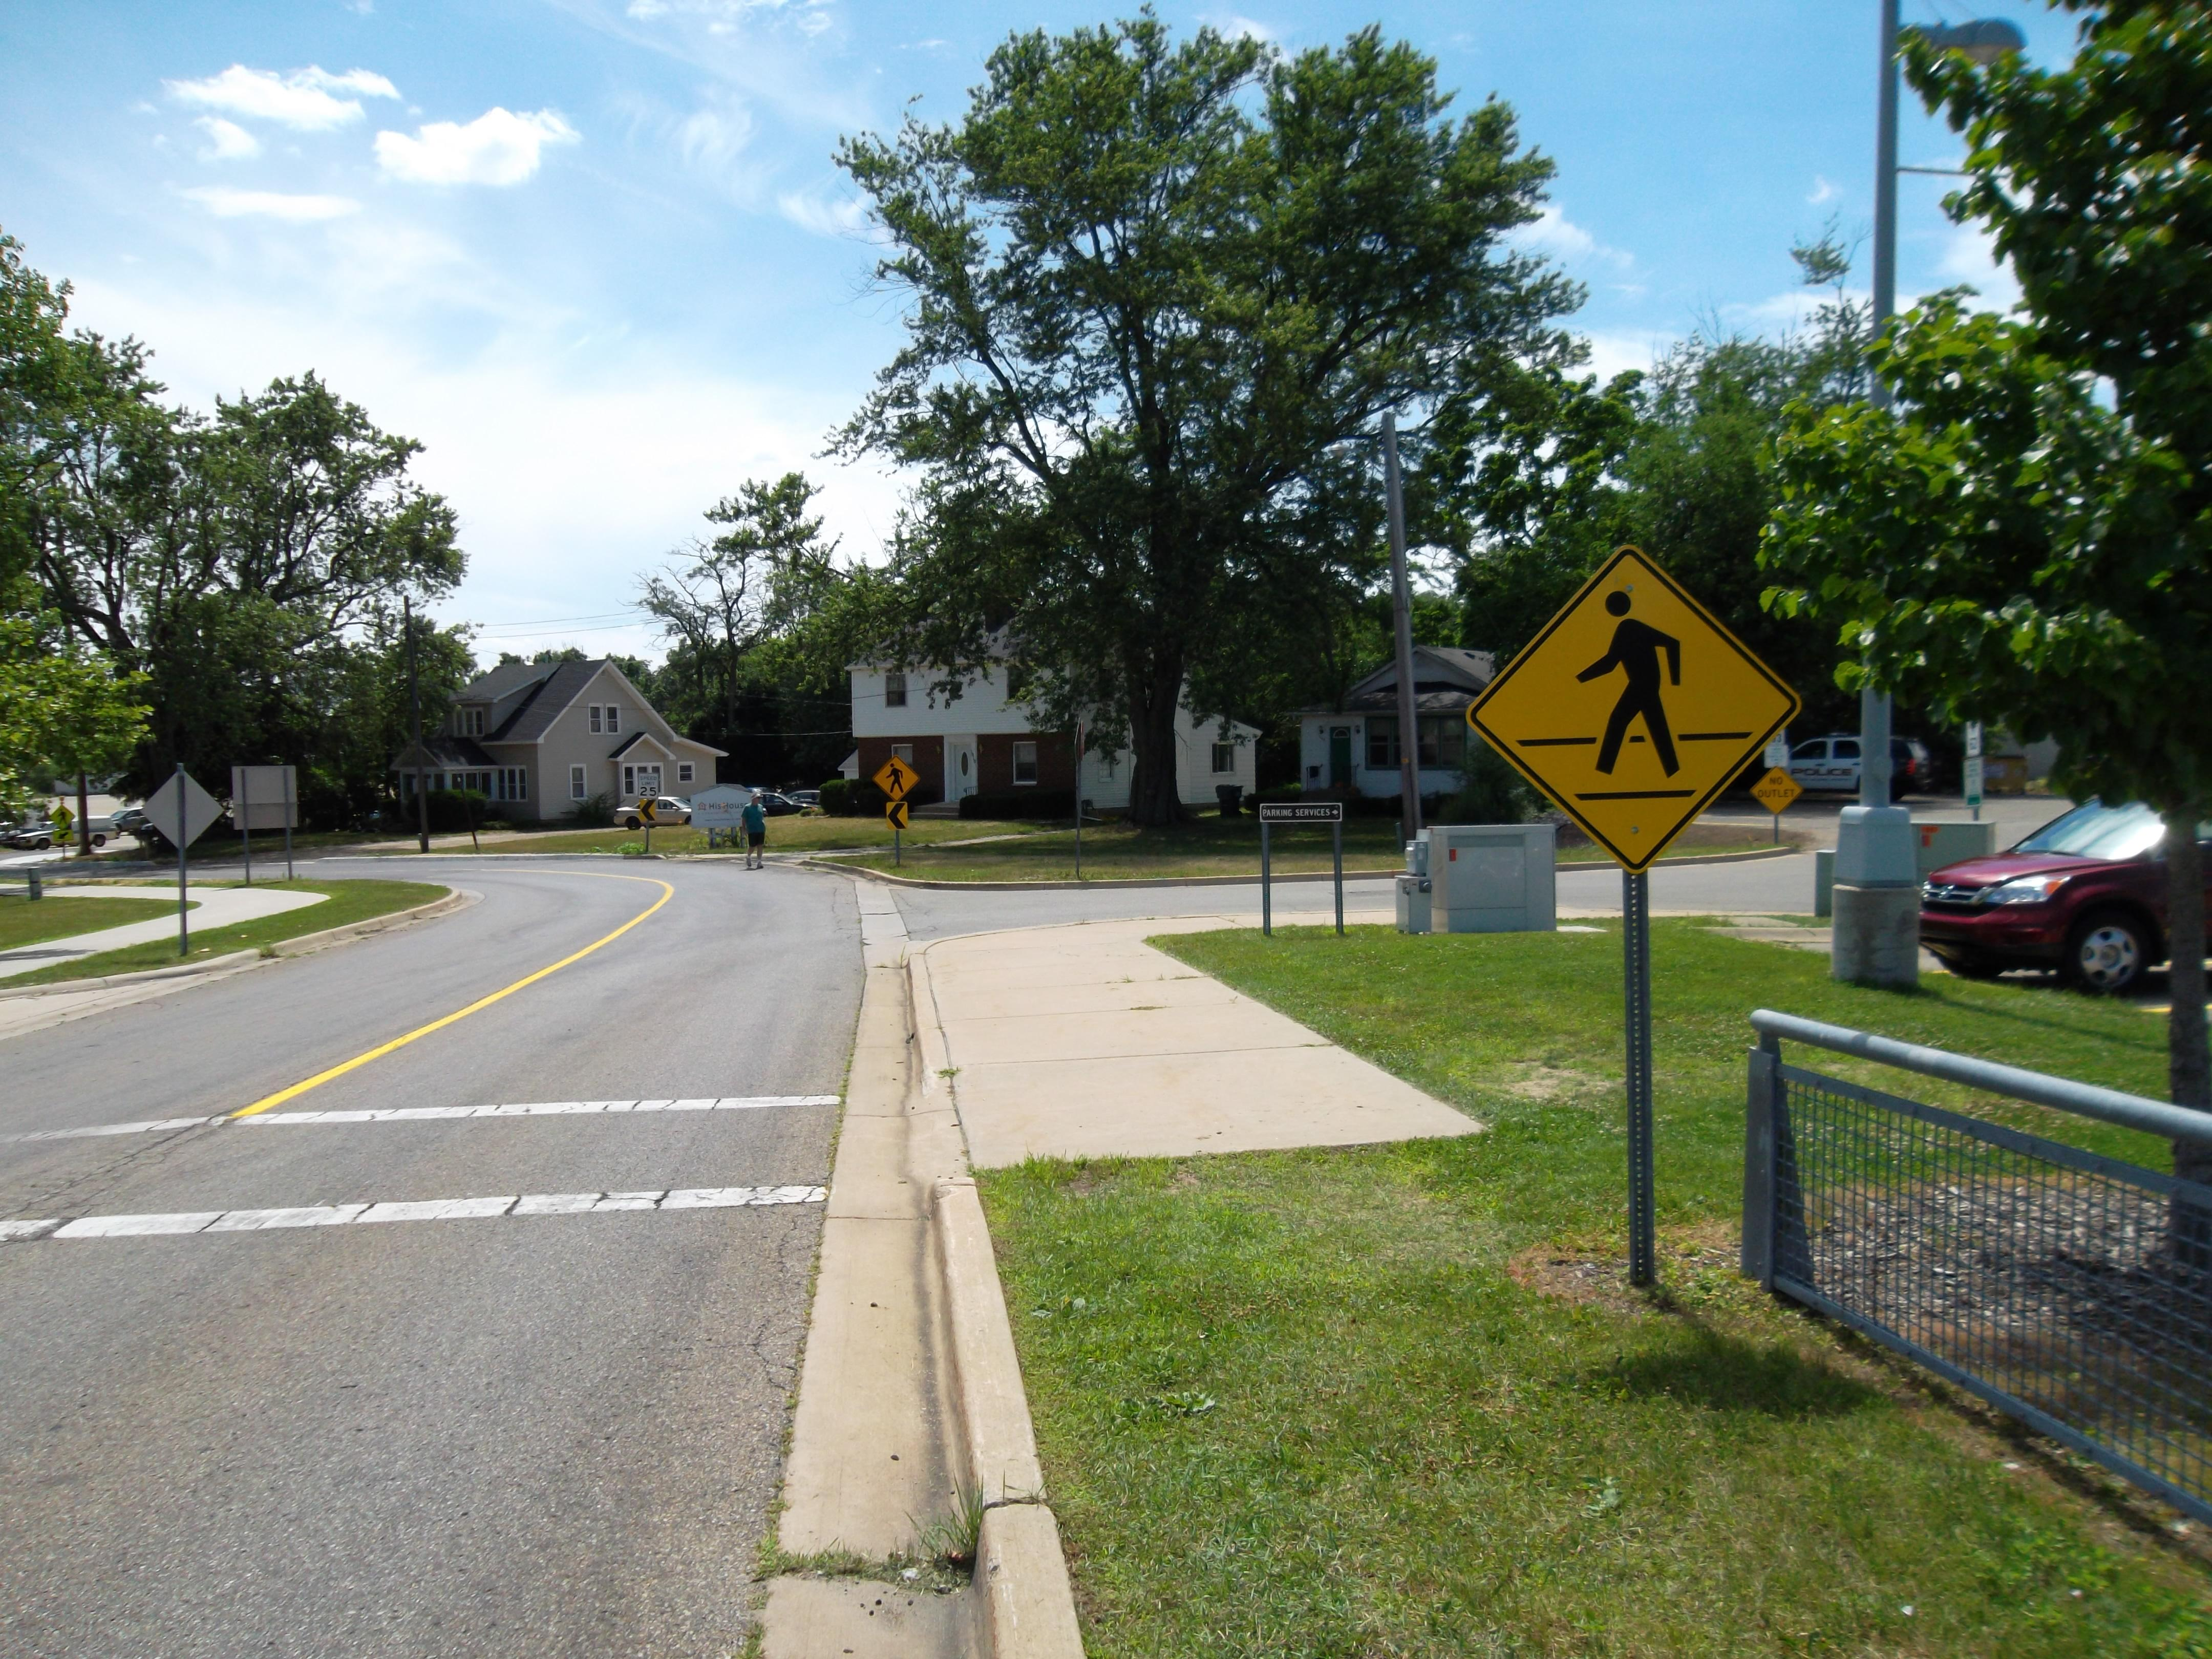warning: (1463, 533, 1803, 864), (874, 758, 921, 802)
